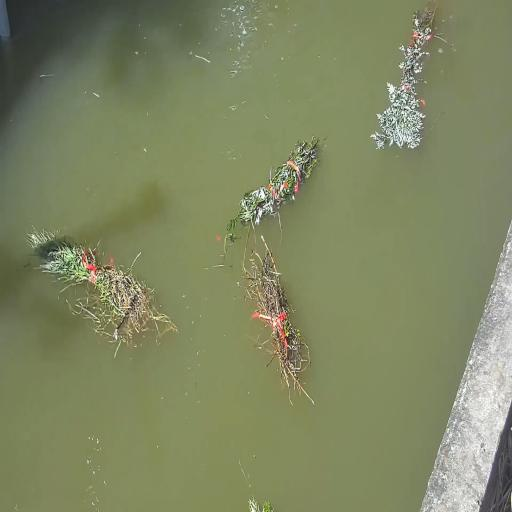twig: (25, 225, 178, 358), (243, 235, 314, 404), (225, 137, 319, 252), (371, 0, 441, 149), (249, 497, 274, 511)
